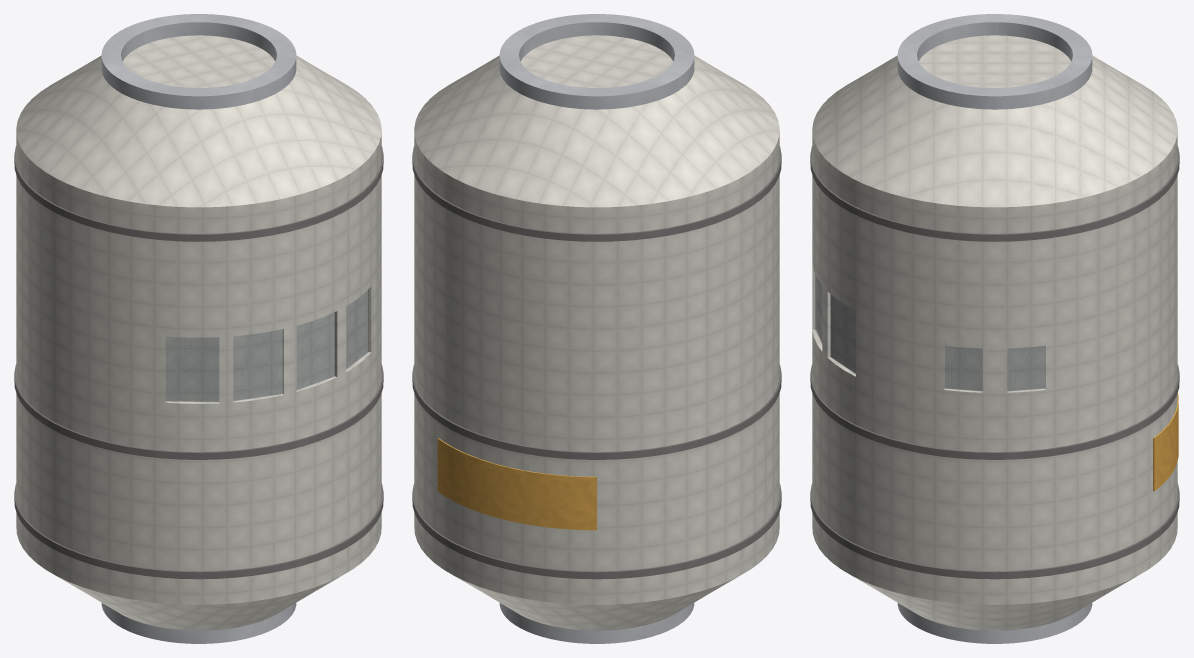
Rendered from cmd08_flight_deck.glb.
3 renders of one model, left to right at view 1: azimuth 30°, elevation 25°; view 2: azimuth 150°, elevation 25°; view 3: azimuth 270°, elevation 25°, orthographic.
Parts seen in each view (by area): view 1: pressure_hull, berthing_rings, windows, ring_frames; view 2: pressure_hull, berthing_rings, ring_frames, mli_patch; view 3: pressure_hull, berthing_rings, ring_frames, windows, mli_patch.
Boxes of the visible parts, x1=… form: pressure_hull: x1=16, y1=35, x2=381, y2=630; berthing_rings: x1=101, y1=14, x2=296, y2=643; windows: x1=166, y1=289, x2=368, y2=401; ring_frames: x1=14, y1=146, x2=383, y2=579; pressure_hull: x1=414, y1=35, x2=779, y2=630; berthing_rings: x1=499, y1=14, x2=694, y2=643; ring_frames: x1=412, y1=146, x2=781, y2=579; mli_patch: x1=437, y1=438, x2=596, y2=530; pressure_hull: x1=812, y1=35, x2=1177, y2=630; berthing_rings: x1=897, y1=14, x2=1092, y2=643; ring_frames: x1=810, y1=146, x2=1179, y2=579; windows: x1=815, y1=275, x2=1045, y2=391; mli_patch: x1=1153, y1=392, x2=1178, y2=491.
Size of the model in its own units: 3.79 by 6.2 by 3.79.
Materials: 5 (4 with a texture image).
